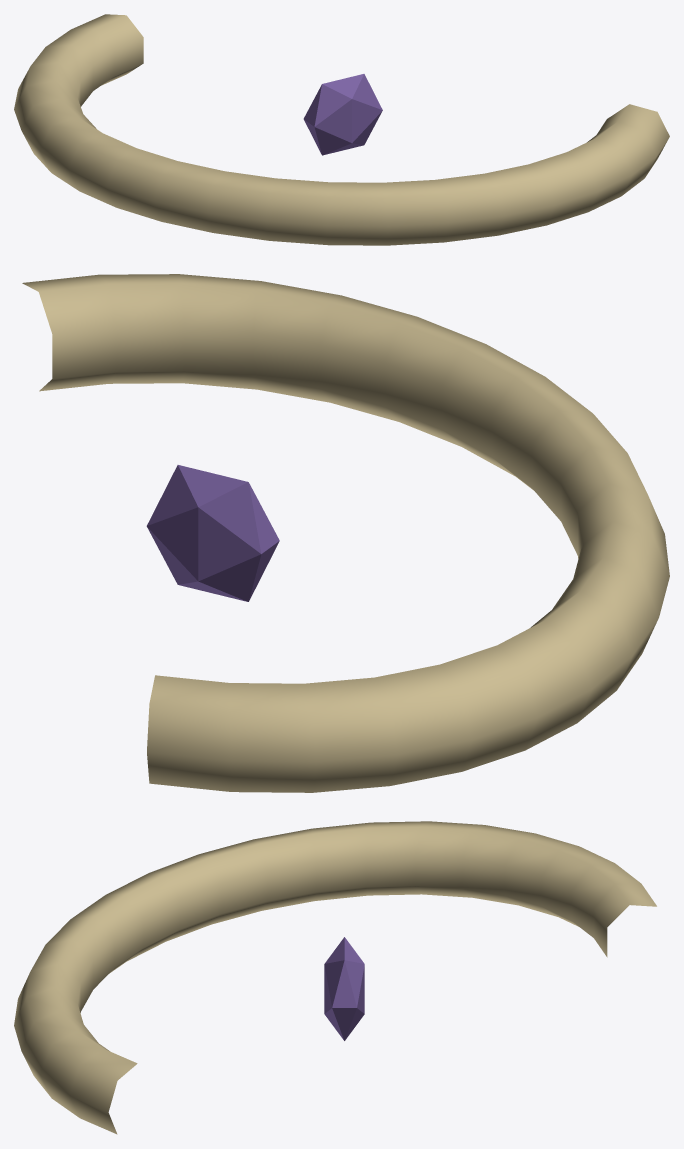
File: wpn_m_05.glb
3 renders of one model, top to bottom at view 1: azimuth 30°, elevation 25°; view 2: azimuth 150°, elevation 25°; view 3: azimuth 270°, elevation 25°, orthographic. The views are drawn at different scales.
Parts seen in each view (by area): view 1: attack_arc, attack_core; view 2: attack_arc, attack_core; view 3: attack_arc, attack_core.
Part boxes in pixels (<box>): attack_arc: <box>14,14,669,245</box>; attack_core: <box>303,74,382,155</box>; attack_arc: <box>22,274,669,792</box>; attack_core: <box>146,465,279,601</box>; attack_arc: <box>14,821,656,1134</box>; attack_core: <box>324,937,364,1040</box>.
Bounding box in the file's own units: 1.09 × 0.1531 × 1.12.
